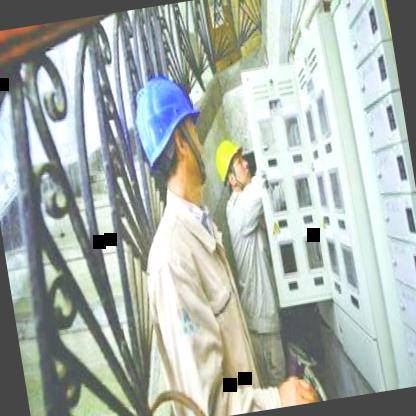helmet: (114, 63, 213, 214), (206, 128, 257, 200)
